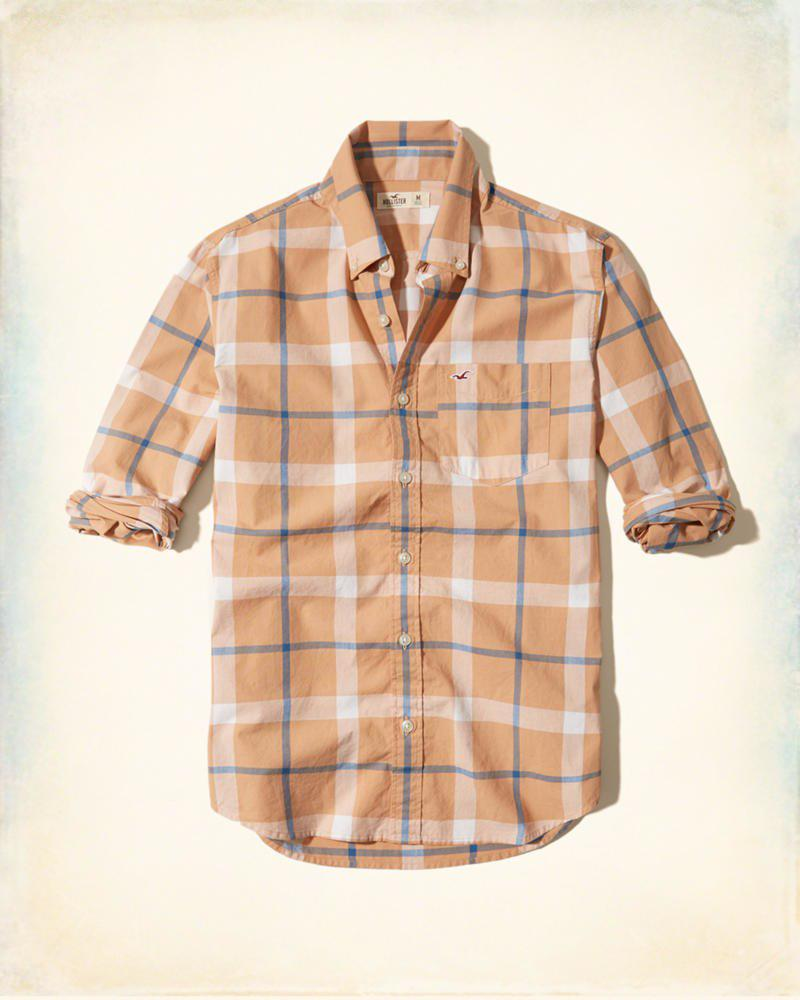teeshirt: (67, 118, 745, 881)
